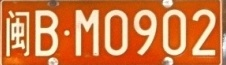B: (35, 10, 58, 56)
